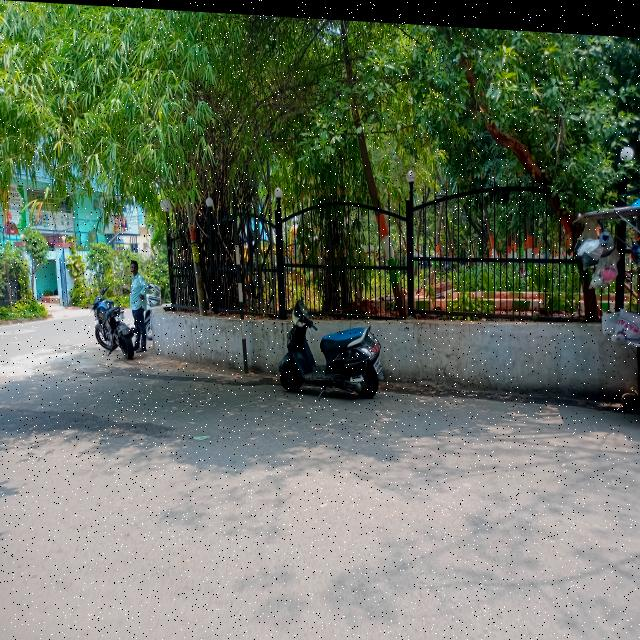bike: (279, 288, 386, 406), (88, 282, 138, 361)
